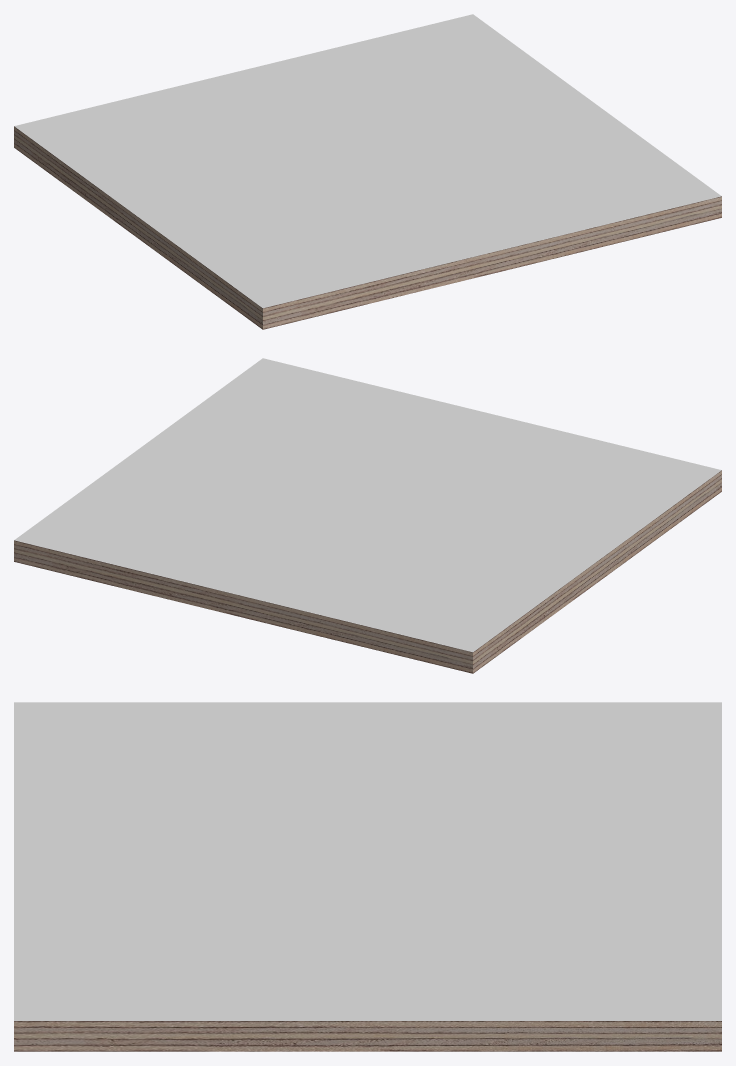
The model's file is Counter.fbx.
The picture shows the model from 3 angles, top to bottom: view 1: azimuth 30°, elevation 25°; view 2: azimuth 150°, elevation 25°; view 3: azimuth 270°, elevation 25°; orthographic projection. The views are drawn at different scales.
Parts seen in each view (by area): view 1: Counter BL, Counter B, Counter BR; view 2: Counter BR, Counter B, Counter BL; view 3: Counter B, Counter BL, Counter BR.
Boxes of the visible parts, box(x1,y1,x2,y2) form: Counter BL: box(180, 135, 721, 329); Counter B: box(97, 75, 638, 268); Counter BR: box(14, 14, 555, 207); Counter BR: box(14, 479, 555, 673); Counter B: box(97, 419, 638, 612); Counter BL: box(180, 358, 721, 551); Counter B: box(250, 702, 485, 1051); Counter BL: box(14, 702, 249, 1051); Counter BR: box(486, 702, 721, 1051).
Bounding box in the file's own units: 42.6 × 1.9 × 40.
